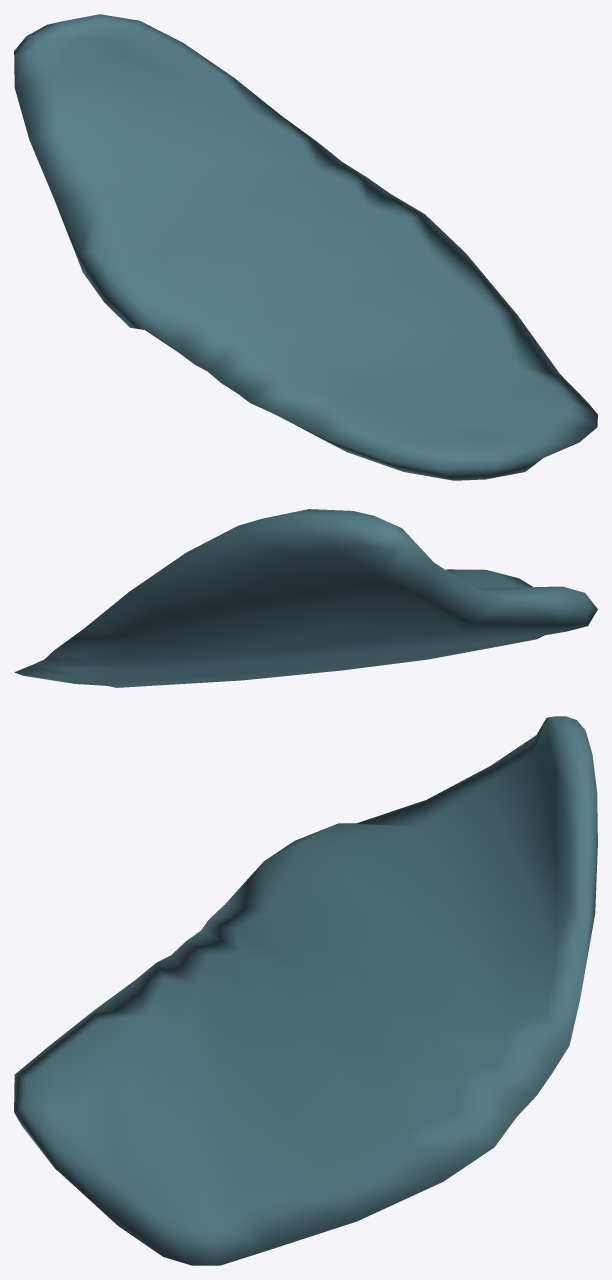
Rendered from Medial_head_of_flexor_hallucis_brevis_on_prox_phal_of_1st.l_Gen.glb.
3 renders of one model, top to bottom at view 1: azimuth 30°, elevation 25°; view 2: azimuth 150°, elevation 25°; view 3: azimuth 270°, elevation 25°, orthographic. The views are drawn at different scales.
Parts seen in each view (by area): view 1: Medial_head_of_flexor_hallucis_brevis_on_prox_phal_of_1st.l_; view 2: Medial_head_of_flexor_hallucis_brevis_on_prox_phal_of_1st.l_; view 3: Medial_head_of_flexor_hallucis_brevis_on_prox_phal_of_1st.l_.
Part boxes in pixels (x1,y1,x2,y2): Medial_head_of_flexor_hallucis_brevis_on_prox_phal_of_1st.l_: (14, 14, 597, 480); Medial_head_of_flexor_hallucis_brevis_on_prox_phal_of_1st.l_: (14, 509, 597, 687); Medial_head_of_flexor_hallucis_brevis_on_prox_phal_of_1st.l_: (14, 716, 597, 1265).
Bounding box in the file's own units: 0.00565 × 0.00422 × 0.00621.
